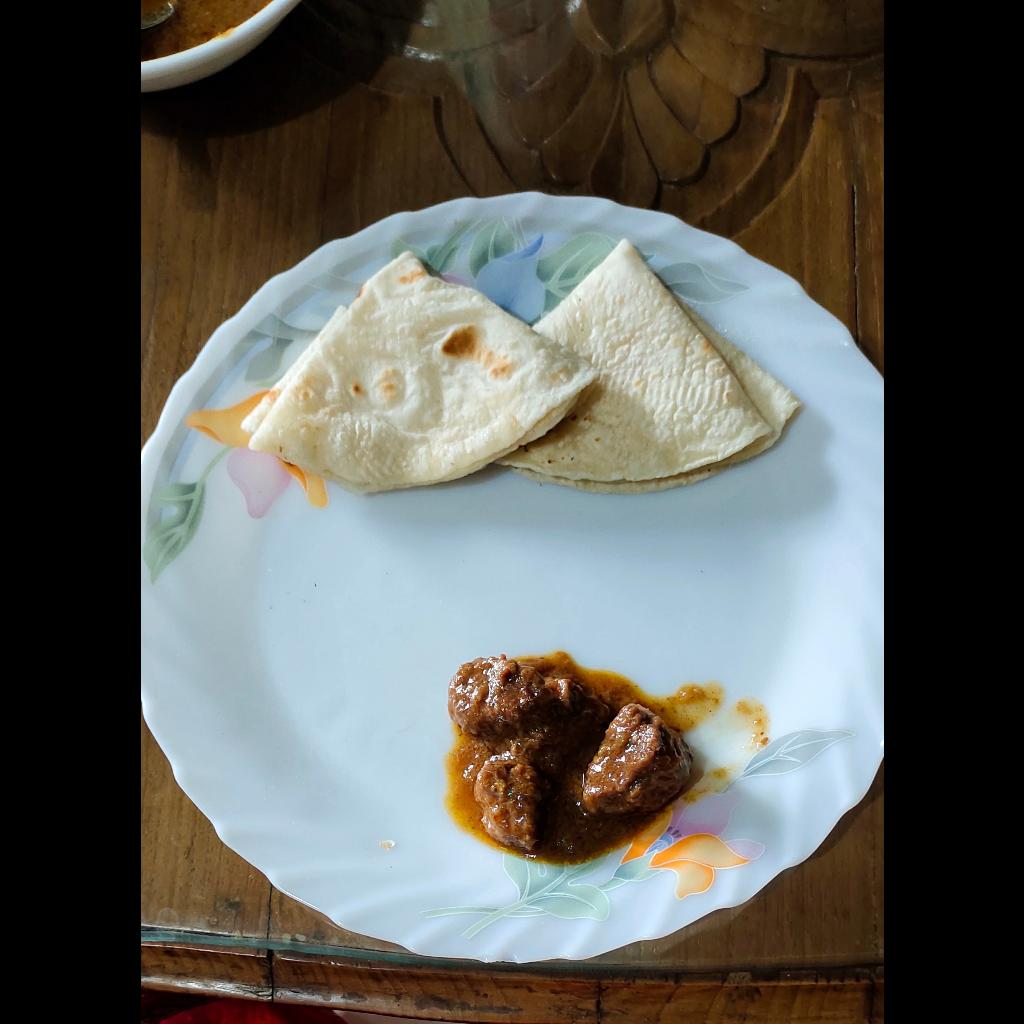beef: (447, 655, 704, 868)
ruti: (239, 239, 800, 495)
